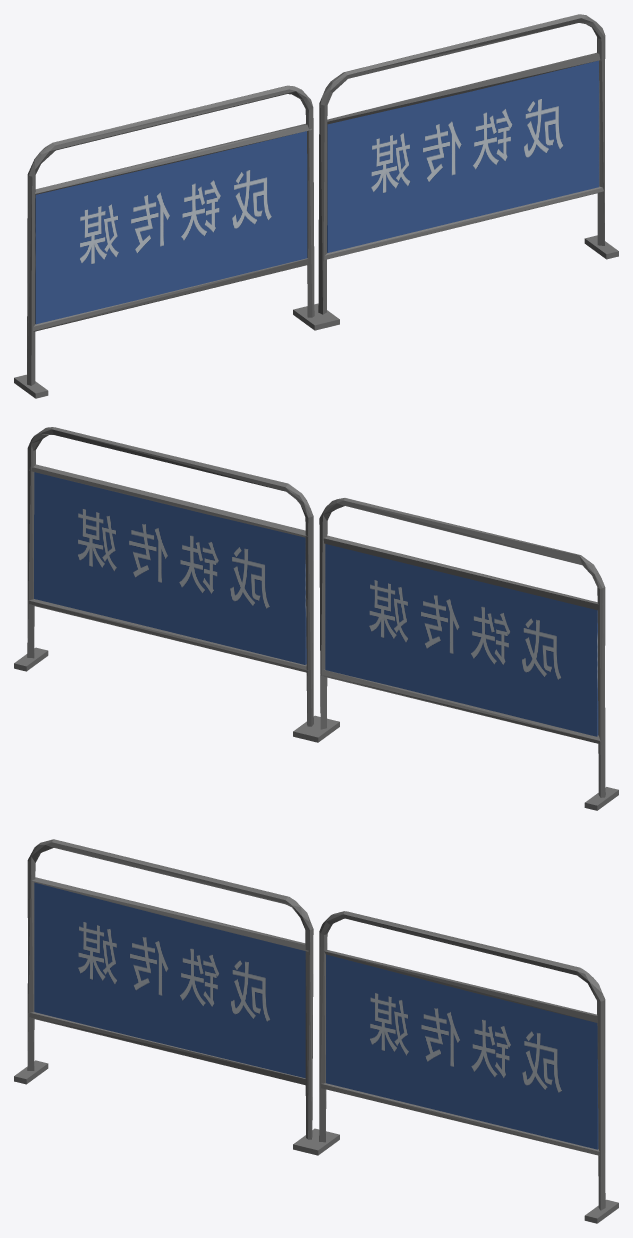
3 views of the same model, one above another, from view 1: azimuth 30°, elevation 25°; view 2: azimuth 150°, elevation 25°; view 3: azimuth 330°, elevation 25° (orthographic).
Visible parts, largest first — view 1: 网格008, 网格009; view 2: 网格008, 网格009; view 3: 网格008, 网格009.
Boxes of the visible parts, x1=… form: 网格008: x1=35, y1=60, x2=599, y2=324; 网格009: x1=14, y1=14, x2=618, y2=398; 网格008: x1=34, y1=472, x2=598, y2=736; 网格009: x1=14, y1=427, x2=618, y2=810; 网格008: x1=34, y1=882, x2=598, y2=1149; 网格009: x1=14, y1=839, x2=618, y2=1223.
Bounding box in the file's own units: 233 × 92.08 × 15.
